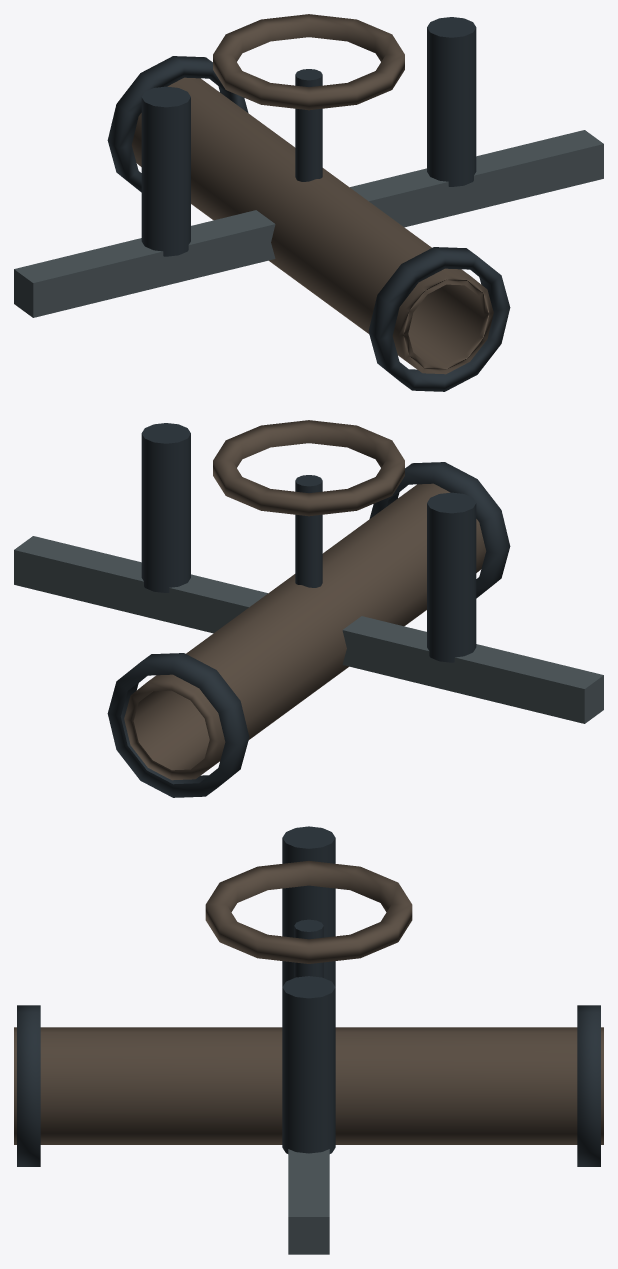
File: manifold-1.glb
3 views of the same model, one above another, from view 1: azimuth 30°, elevation 25°; view 2: azimuth 150°, elevation 25°; view 3: azimuth 270°, elevation 25° (orthographic). The views are drawn at different scales.
Parts seen in each view (by area): view 1: manifold/0/KR-230-1; view 2: manifold/0/KR-230-1; view 3: manifold/0/KR-230-1.
Boxes of the visible parts, bbox=[...] form: manifold/0/KR-230-1: bbox=[14, 14, 603, 391]; manifold/0/KR-230-1: bbox=[14, 420, 603, 797]; manifold/0/KR-230-1: bbox=[14, 826, 603, 1254].
Bounding box in the file's own units: 2.4 × 0.955 × 2.
